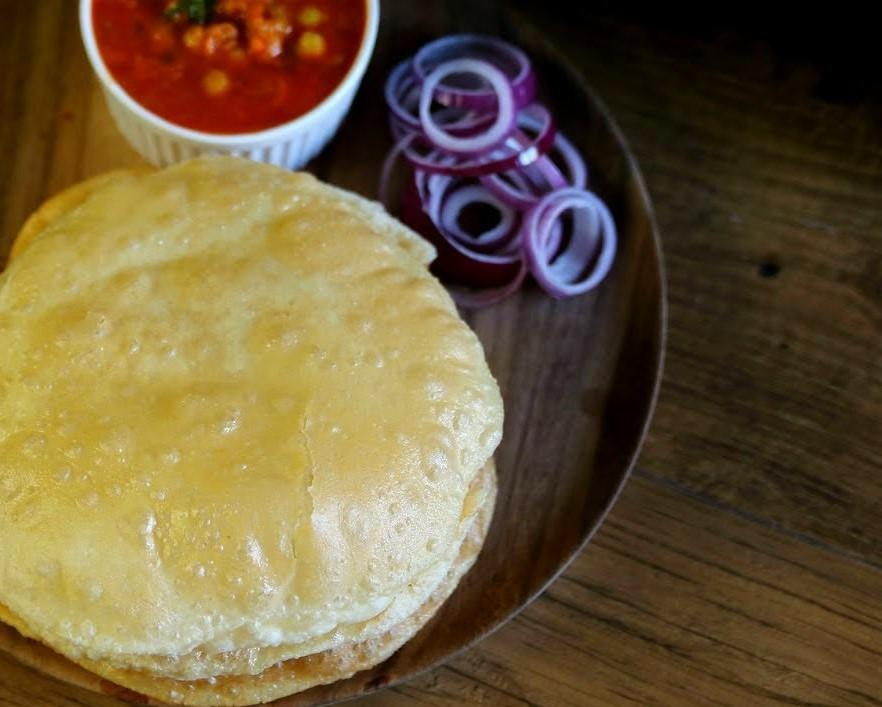Bhatura: (0, 153, 502, 680), (11, 165, 497, 707)
Chole: (91, 0, 363, 135)
